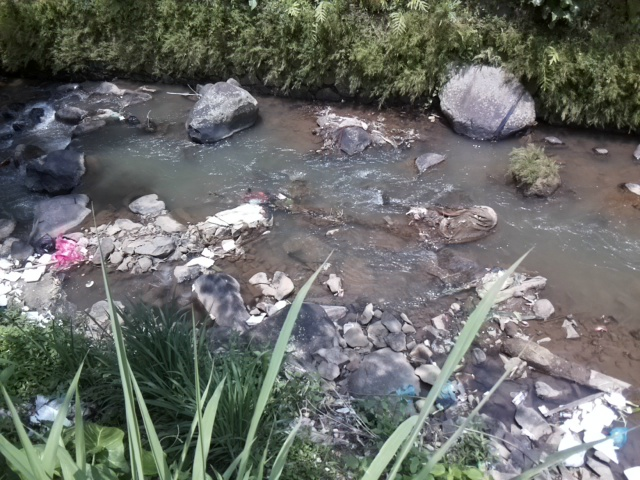Sampah_Plastik: (50, 234, 87, 271), (606, 425, 630, 450), (31, 234, 57, 254)
Sampah_Styrofoam: (561, 380, 622, 466), (18, 266, 43, 283)
